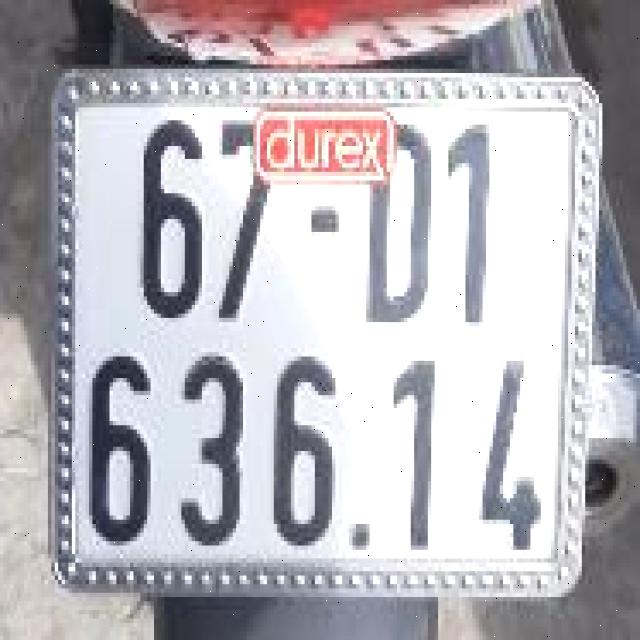1: (445, 114, 524, 346), (380, 354, 469, 552)
3: (176, 343, 255, 562)
4: (481, 361, 542, 558)
6: (125, 110, 210, 328), (267, 346, 346, 565), (84, 339, 156, 572)
7: (204, 120, 292, 335)
D: (358, 123, 436, 324)
